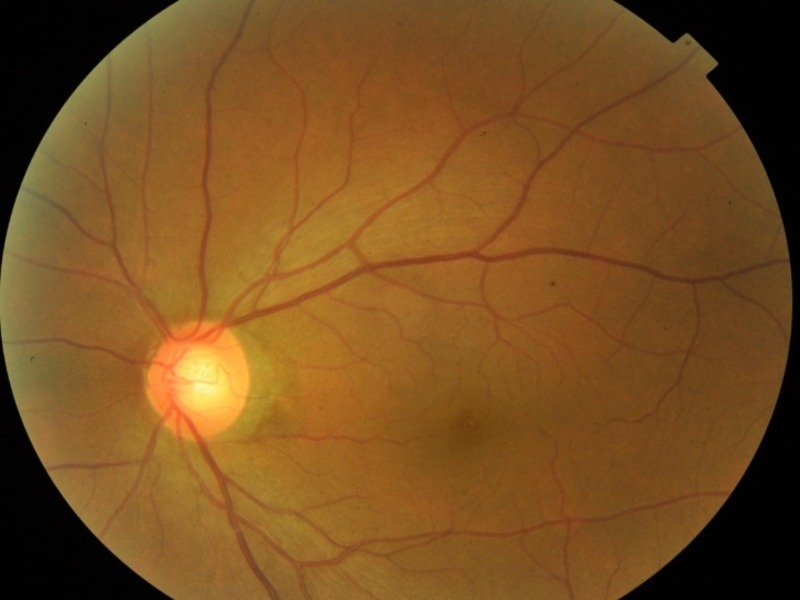Optic Cup: (175, 353, 225, 403)
Optic Disc: (143, 321, 249, 439)
